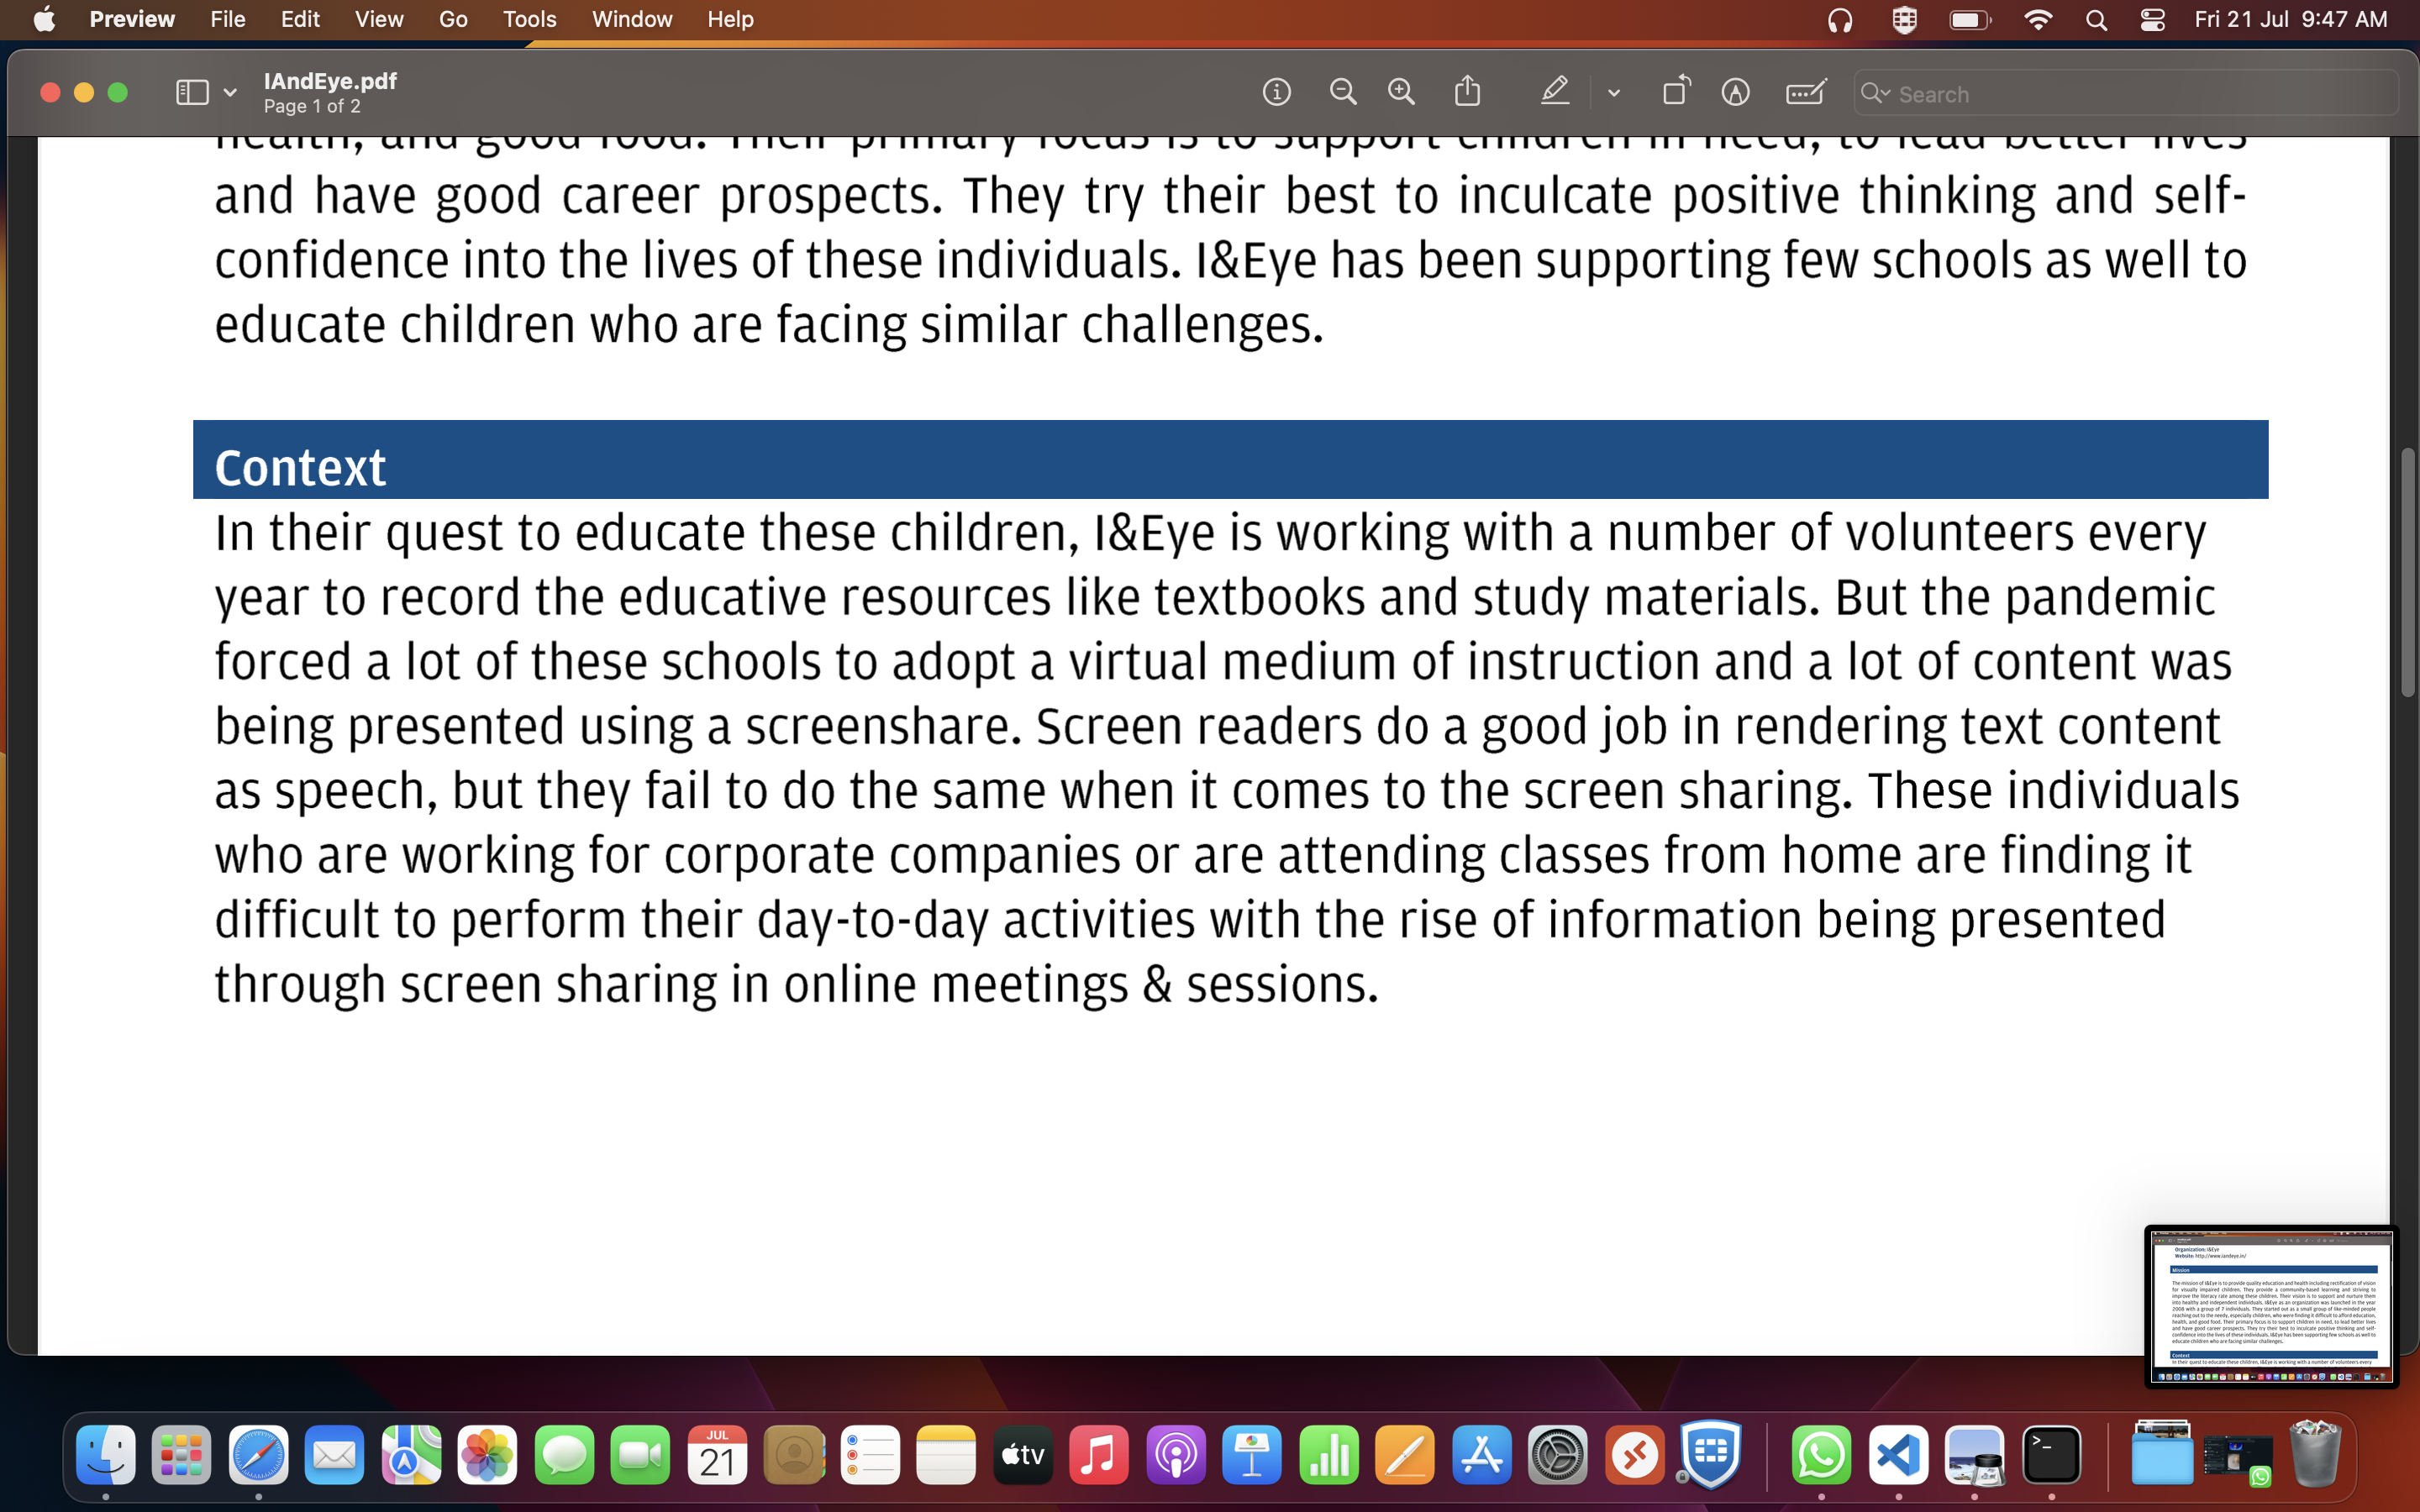Paragraph: (216, 503, 2260, 1038), (202, 155, 2267, 368), (216, 432, 397, 500)
